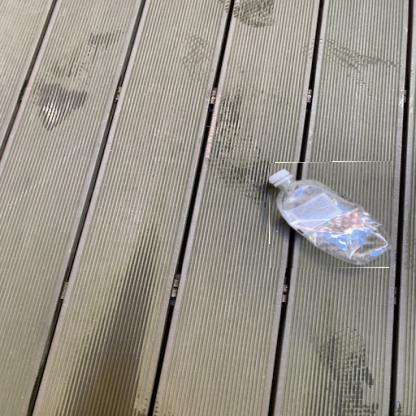plastic-bottles: (271, 163, 395, 270)
